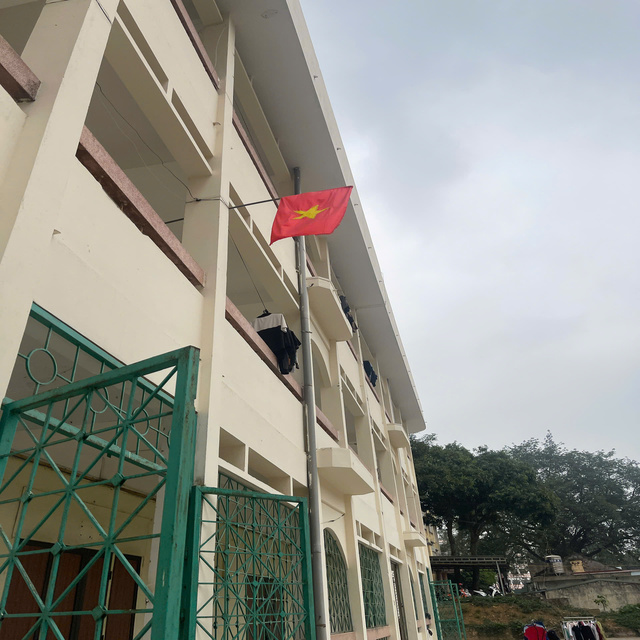laco: (263, 183, 362, 251)
